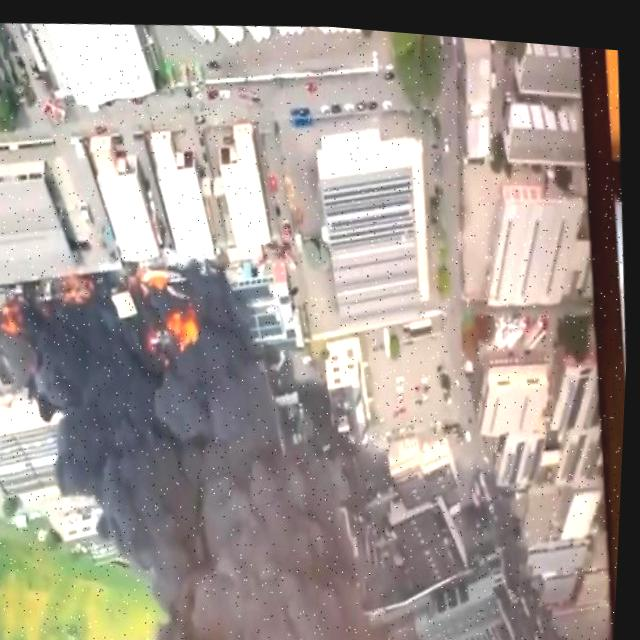no_helmet: (35, 329, 430, 640)
